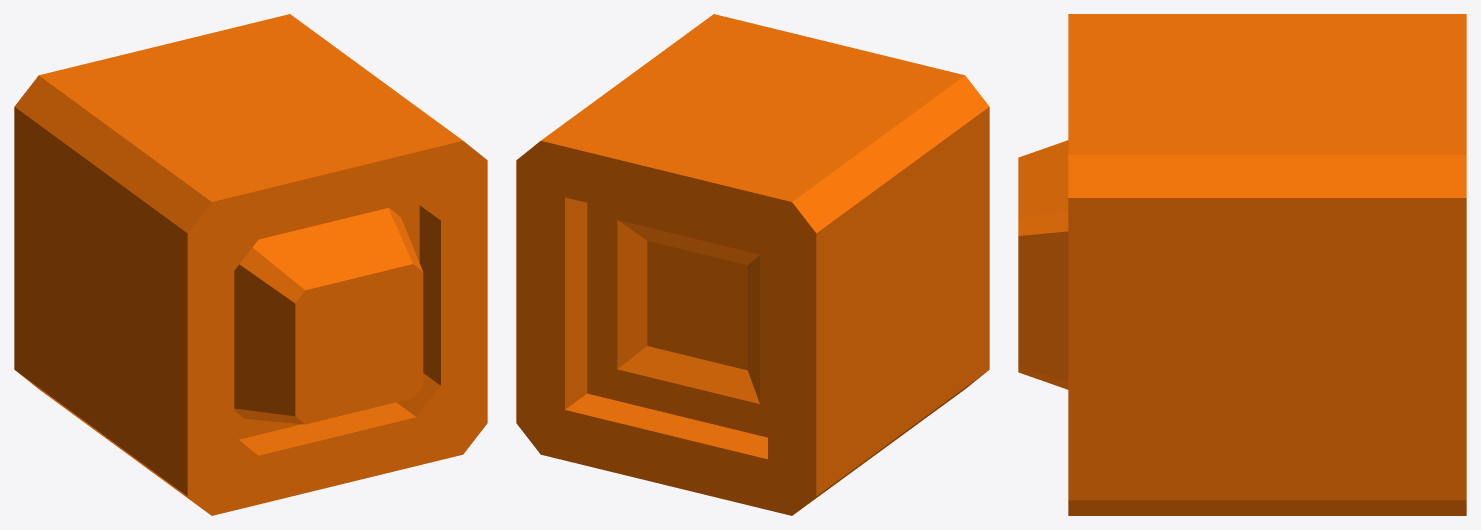
3 renders of one model, left to right at view 1: azimuth 30°, elevation 25°; view 2: azimuth 150°, elevation 25°; view 3: azimuth 270°, elevation 25°, orthographic. The views are drawn at different scales.
Parts seen in each view (by area): view 1: Cube; view 2: Cube; view 3: Cube.
Boxes of the visible parts, x1,y1,x2,y2 form: Cube: [14, 14, 487, 515]; Cube: [516, 14, 989, 515]; Cube: [1018, 14, 1466, 515].
Bounding box in the file's own units: 2 × 2 × 2.25.
Materials: 1 (1 with a texture image).
